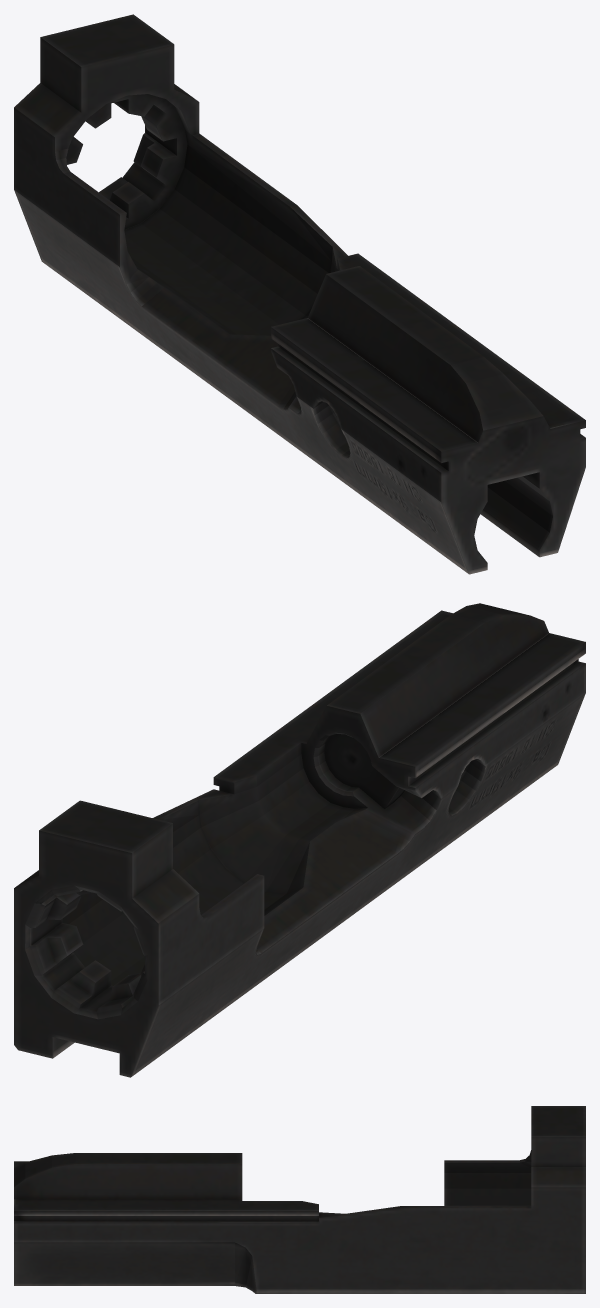
3 renders of one model, top to bottom at view 1: azimuth 30°, elevation 25°; view 2: azimuth 150°, elevation 25°; view 3: azimuth 270°, elevation 25°, orthographic. The views are drawn at different scales.
Parts seen in each view (by area): view 1: TW_5de7bd7bfd6b4e6e2276dc25_PZ_Import; view 2: TW_5de7bd7bfd6b4e6e2276dc25_PZ_Import; view 3: TW_5de7bd7bfd6b4e6e2276dc25_PZ_Import.
Part boxes in pixels (x1=…): TW_5de7bd7bfd6b4e6e2276dc25_PZ_Import: x1=14, y1=14, x2=585, y2=574; TW_5de7bd7bfd6b4e6e2276dc25_PZ_Import: x1=14, y1=603, x2=585, y2=1077; TW_5de7bd7bfd6b4e6e2276dc25_PZ_Import: x1=14, y1=1106, x2=585, y2=1293.
Size of the model in its own units: 0.0149 by 0.0766 by 0.0222.
Materials: 1 (1 with a texture image).
